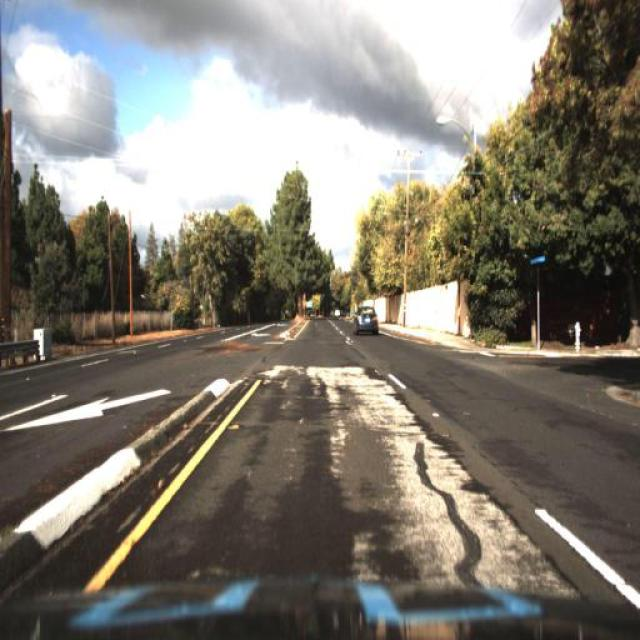car: (352, 306, 380, 338)
